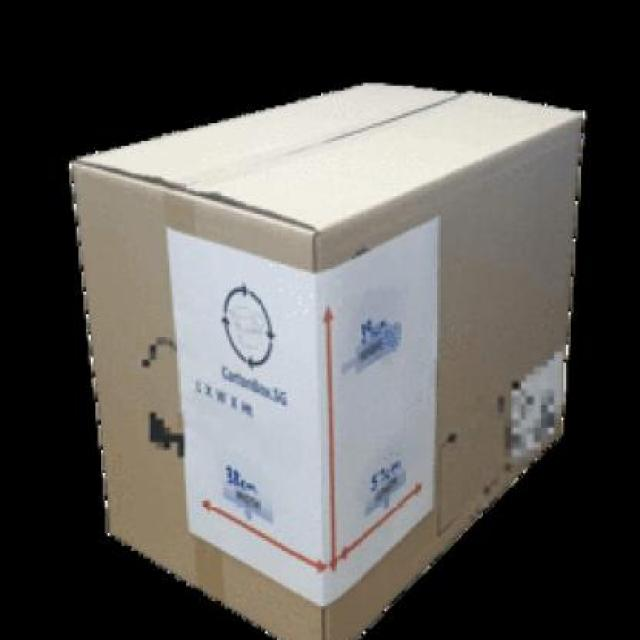box: (60, 69, 587, 640)
